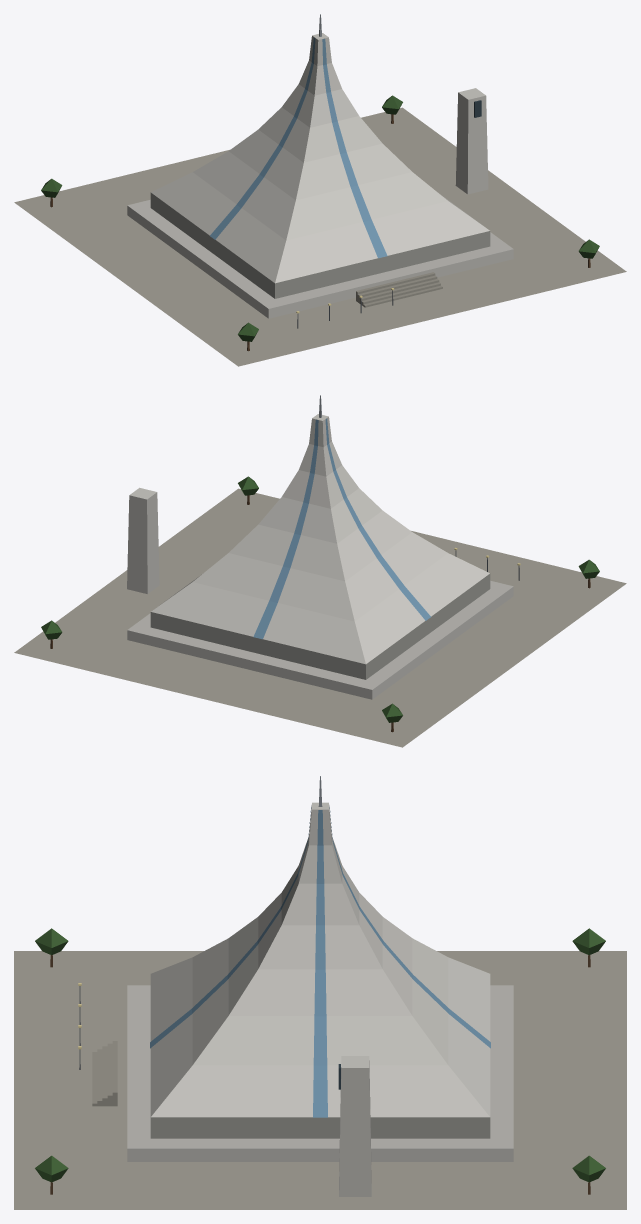
File: mobile.glb
The picture shows the model from 3 angles, top to bottom: view 1: azimuth 30°, elevation 25°; view 2: azimuth 150°, elevation 25°; view 3: azimuth 270°, elevation 25°; orthographic projection. The views are drawn at different scales.
Visible parts, largest first — view 1: lm.saint-mary-cathedral; view 2: lm.saint-mary-cathedral; view 3: lm.saint-mary-cathedral.
Boxes of the visible parts, x1,y1,x2,y2 form: lm.saint-mary-cathedral: (14,14,626,366); lm.saint-mary-cathedral: (14,395,626,747); lm.saint-mary-cathedral: (14,776,626,1209).
Bounding box in the file's own units: 130 × 73.2 × 130.
